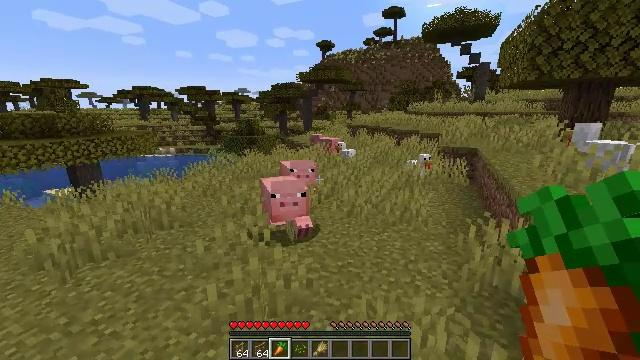chicken: (563, 122, 632, 177), (404, 153, 433, 174), (333, 139, 355, 162)
pig: (262, 177, 312, 237), (282, 157, 317, 202)
